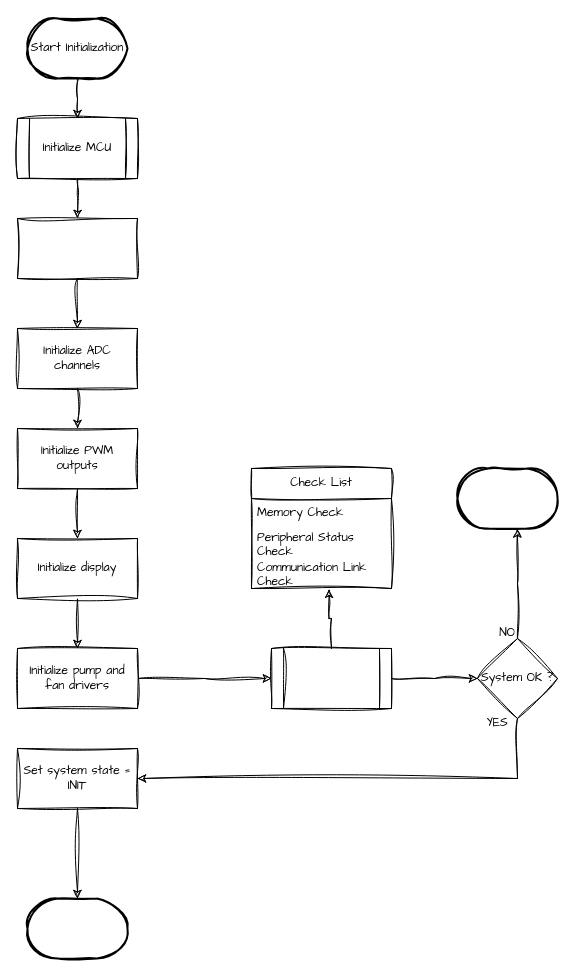
Image size: 576x976. Some labels were removed from this diagram. Here are the shapes that lost their labels. From the top down, the box of each, then its label:
(16, 218, 138, 278): Initialize communication interfaces (CAN / UART)
(456, 467, 558, 529): Enter Fault Mode
(270, 648, 392, 708): Run System Self Test
(26, 897, 128, 959): Initialization Complete
